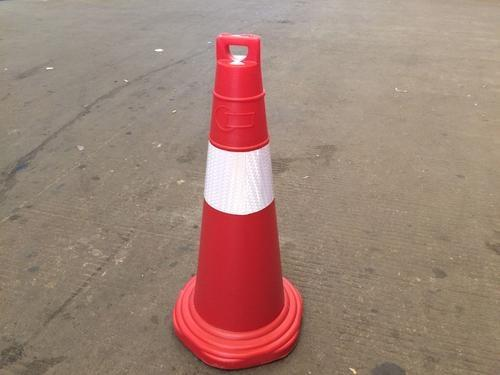cone_barrel: (168, 35, 298, 357)
